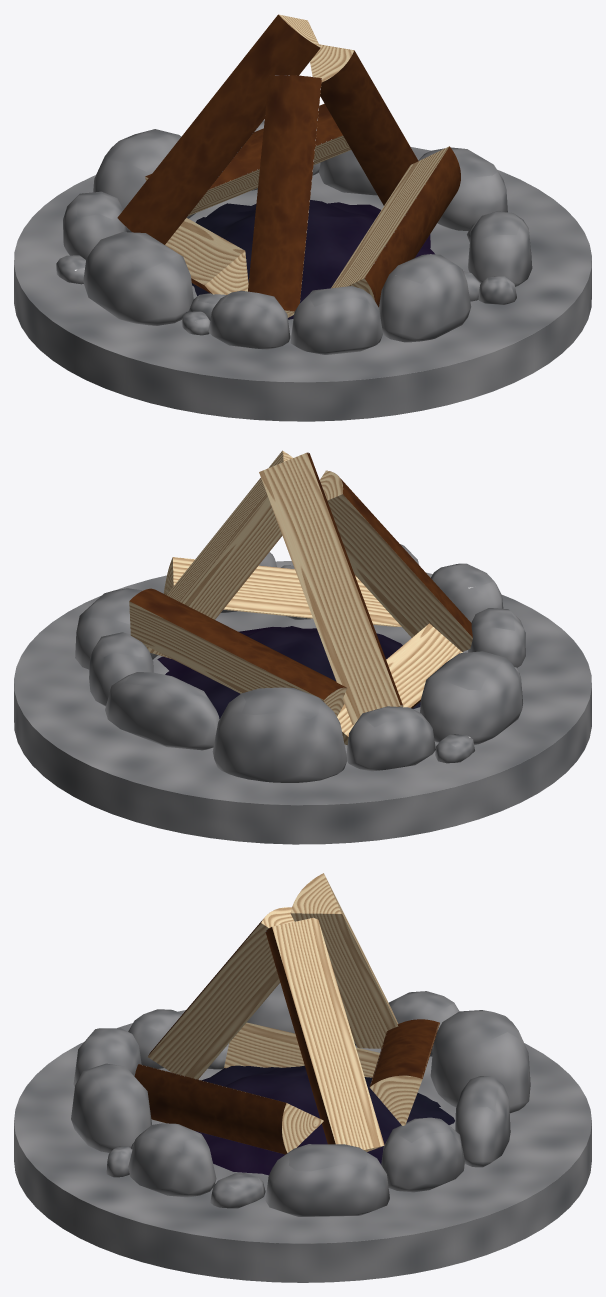
Rendered from Campfire.fbx.
3 renders of one model, top to bottom at view 1: azimuth 30°, elevation 25°; view 2: azimuth 150°, elevation 25°; view 3: azimuth 270°, elevation 25°, orthographic.
Parts seen in each view (by area): view 1: CampfireBase, CampfireCobblestones, CampfireLog.007, CampfireLog.005, CampfireLog.003, CampfireLog.006, CampfireCoal, CampfireLog, CampfireLog.004; view 2: CampfireBase, CampfireCobblestones, CampfireLog.007, CampfireLog.004, CampfireLog.005, CampfireLog.006, CampfireLog.003, CampfireCoal, CampfireLog; view 3: CampfireBase, CampfireCobblestones, CampfireLog.006, CampfireLog.005, CampfireLog.003, CampfireCoal, CampfireLog.007, CampfireLog.004, CampfireLog.
Boxes of the visible parts, x1=… form: CampfireBase: x1=14, y1=147, x2=591, y2=421; CampfireCobblestones: x1=56, y1=120, x2=532, y2=354; CampfireLog.007: x1=117, y1=14, x2=320, y2=244; CampfireLog.005: x1=248, y1=75, x2=321, y2=317; CampfireLog.003: x1=331, y1=146, x2=460, y2=307; CampfireLog.006: x1=310, y1=44, x2=418, y2=205; CampfireCoal: x1=192, y1=200, x2=434, y2=319; CampfireLog: x1=165, y1=218, x2=248, y2=294; CampfireLog.004: x1=145, y1=103, x2=351, y2=215; CampfireBase: x1=14, y1=561, x2=591, y2=844; CampfireCobblestones: x1=75, y1=544, x2=525, y2=782; CampfireLog.007: x1=259, y1=452, x2=403, y2=724; CampfireLog.004: x1=129, y1=588, x2=347, y2=716; CampfireLog.005: x1=319, y1=470, x2=472, y2=651; CampfireLog.006: x1=145, y1=450, x2=292, y2=658; CampfireLog.003: x1=163, y1=557, x2=401, y2=626; CampfireCoal: x1=157, y1=626, x2=420, y2=718; CampfireLog: x1=337, y1=623, x2=462, y2=745; CampfireBase: x1=14, y1=1010, x2=591, y2=1282; CampfireCobblestones: x1=71, y1=983, x2=530, y2=1216; CampfireLog.006: x1=265, y1=917, x2=384, y2=1151; CampfireLog.005: x1=148, y1=907, x2=294, y2=1079; CampfireLog.003: x1=134, y1=1064, x2=323, y2=1154; CampfireCoal: x1=194, y1=1065, x2=454, y2=1175; CampfireLog.007: x1=290, y1=873, x2=398, y2=1048; CampfireLog.004: x1=369, y1=1019, x2=439, y2=1125; CampfireLog: x1=224, y1=1022, x2=379, y2=1077.
Bounding box in the file's own units: 80 × 42.88 × 80.
Materials: 6 (6 with a texture image).
